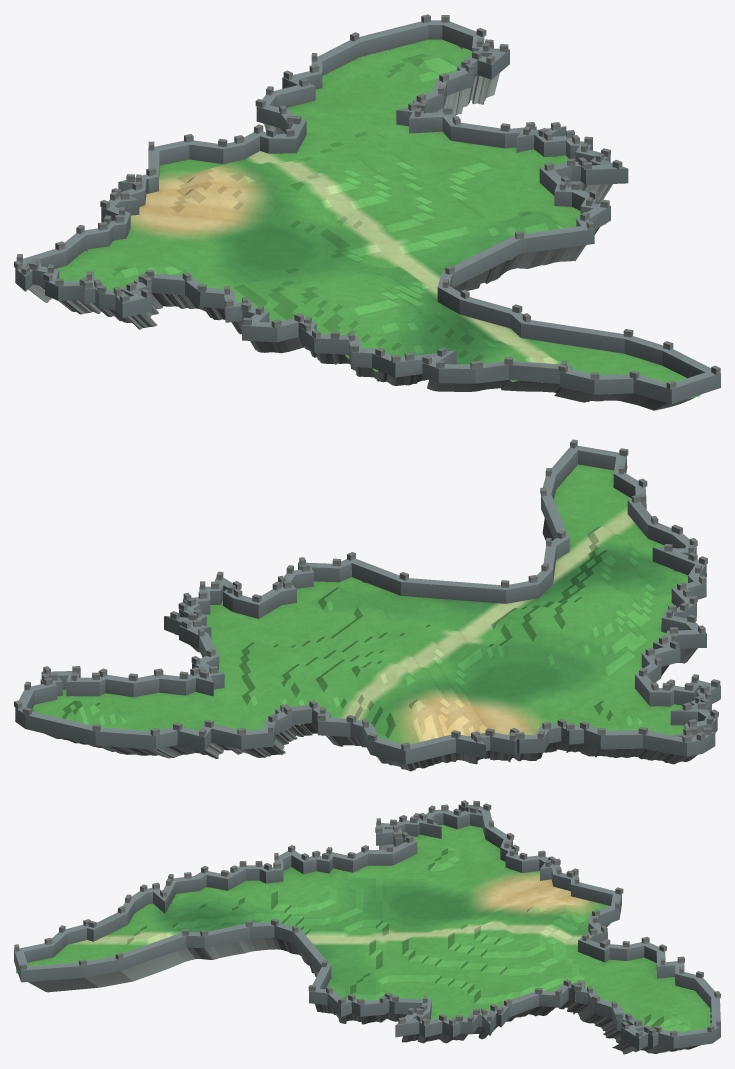
3 views of the same model, one above another, from view 1: azimuth 30°, elevation 25°; view 2: azimuth 150°, elevation 25°; view 3: azimuth 270°, elevation 25° (orthographic). The views are drawn at different scales.
Parts seen in each view (by area): view 1: ground_6e8f1710; view 2: ground_6e8f1710; view 3: ground_6e8f1710.
Part boxes in pixels (x1,y1,x2,y2): ground_6e8f1710: (14, 14, 720, 410); ground_6e8f1710: (14, 439, 720, 771); ground_6e8f1710: (14, 800, 720, 1054).
Size of the model in its own units: 127 by 7.71 by 162.
2 materials, 1 textured.
